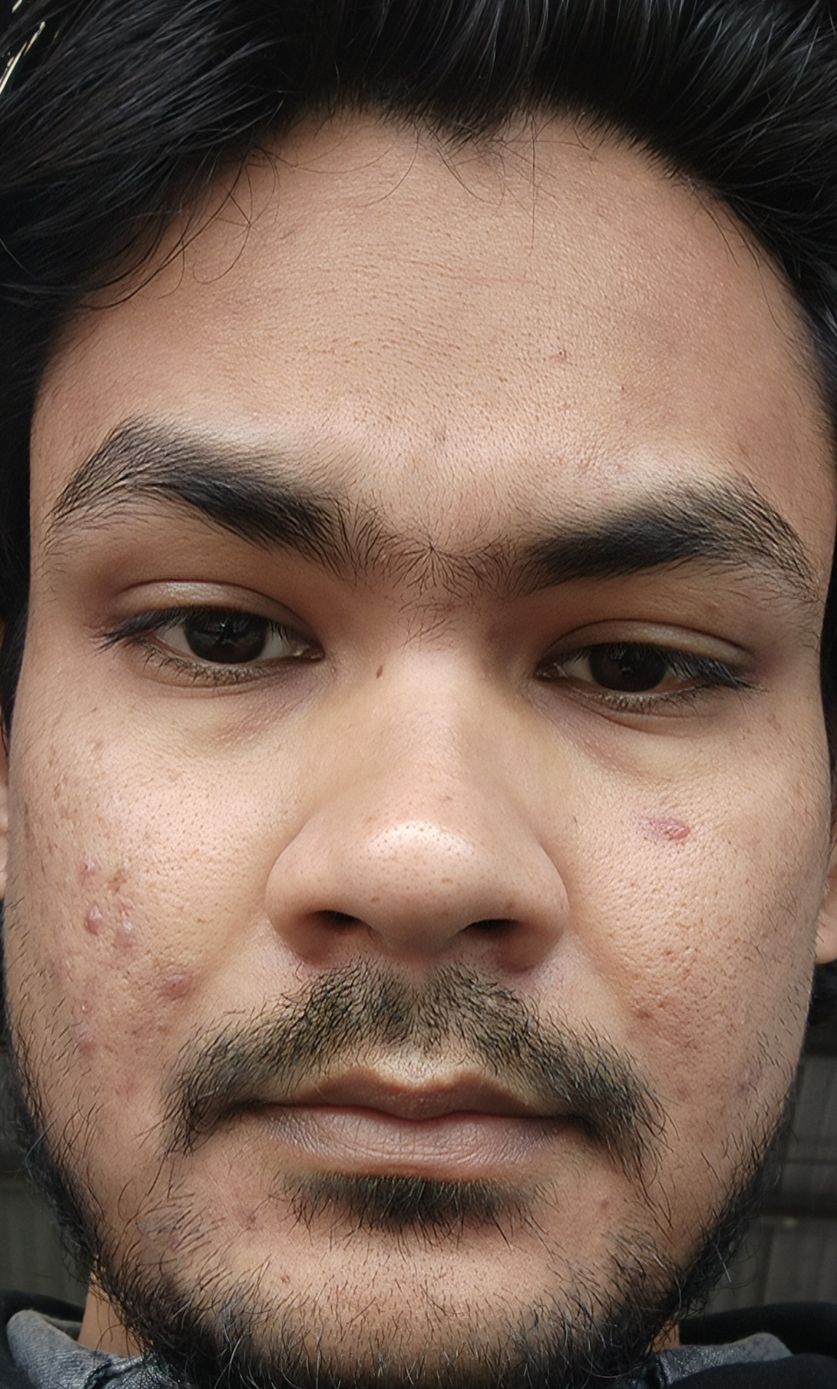papule: (140, 961, 216, 1030), (71, 895, 140, 955), (640, 796, 704, 858), (74, 842, 140, 897)
